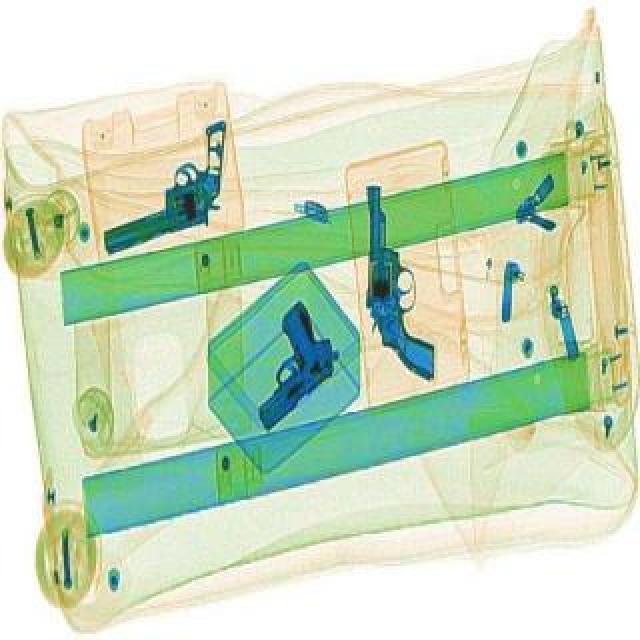gun: (70, 124, 260, 264), (212, 302, 356, 438), (364, 186, 436, 386)
